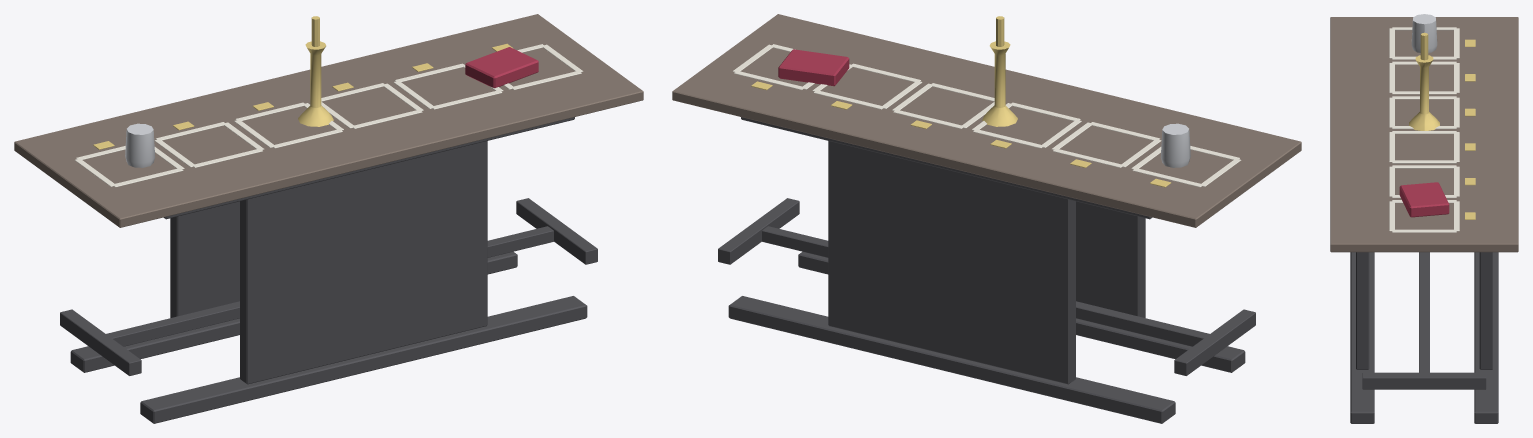
File: theatre-stage-and-backstage-props-table-with-numbered--83c6e43e__35914.glb
The picture shows the model from 3 angles, left to right: view 1: azimuth 30°, elevation 25°; view 2: azimuth 150°, elevation 25°; view 3: azimuth 270°, elevation 25°; orthographic projection. The views are drawn at different scales.
Parts seen in each view (by area): view 1: props-table-with-numbered-spaces; view 2: props-table-with-numbered-spaces; view 3: props-table-with-numbered-spaces.
Boxes of the visible parts, box(x1,y1,x2,y2) form: props-table-with-numbered-spaces: box(14, 14, 643, 423); props-table-with-numbered-spaces: box(672, 14, 1301, 423); props-table-with-numbered-spaces: box(1330, 14, 1518, 423).
Size of the model in its own units: 2 by 1.19 by 0.7.
